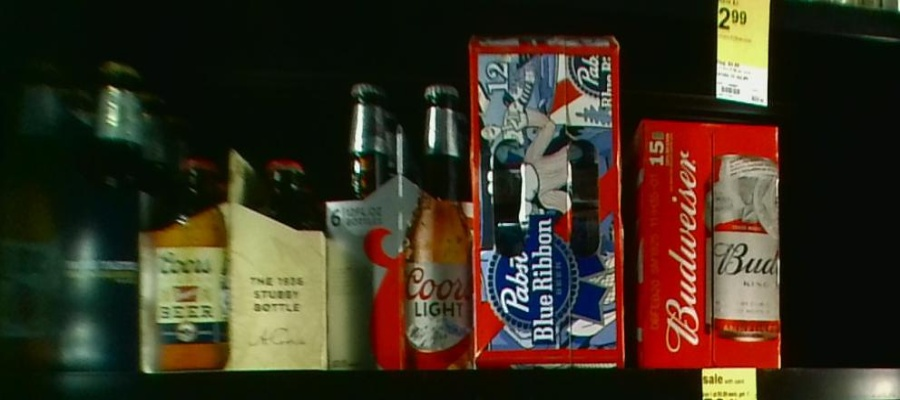bottle: (469, 35, 624, 369), (141, 146, 327, 367), (328, 80, 469, 366), (623, 118, 778, 366), (67, 60, 139, 368), (1, 60, 67, 372)
